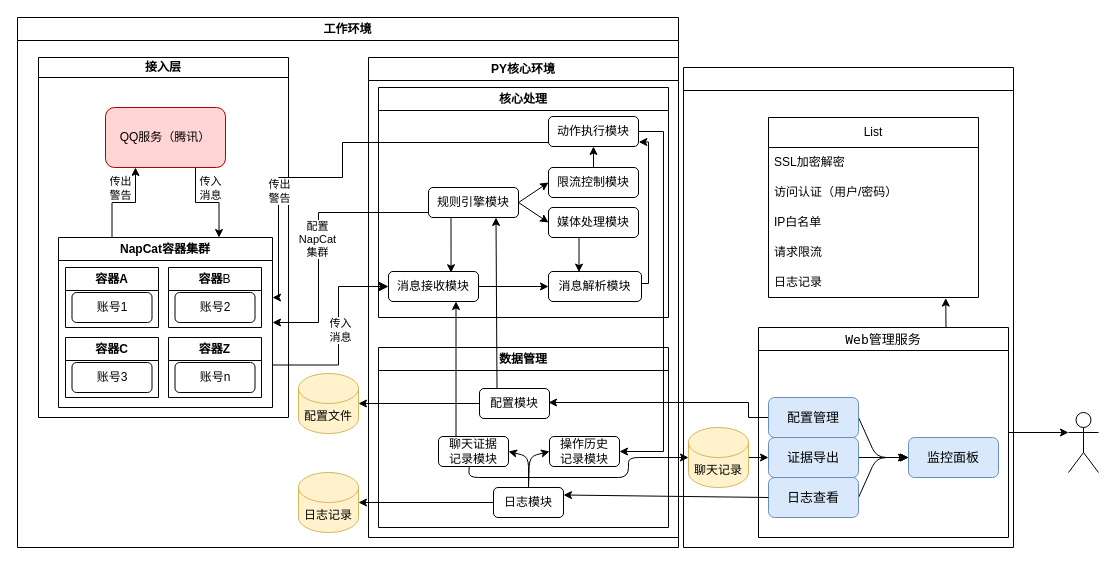
Some shapes in this 1119 by 565 pixel diagram are drawn without their labels. The shapes that lost their labels are listed below. From the top down, each one's centre as x and y in pixels, then its label:
At pixel 848 307: "管理区".
At pixel 1083 442: "管理员".
